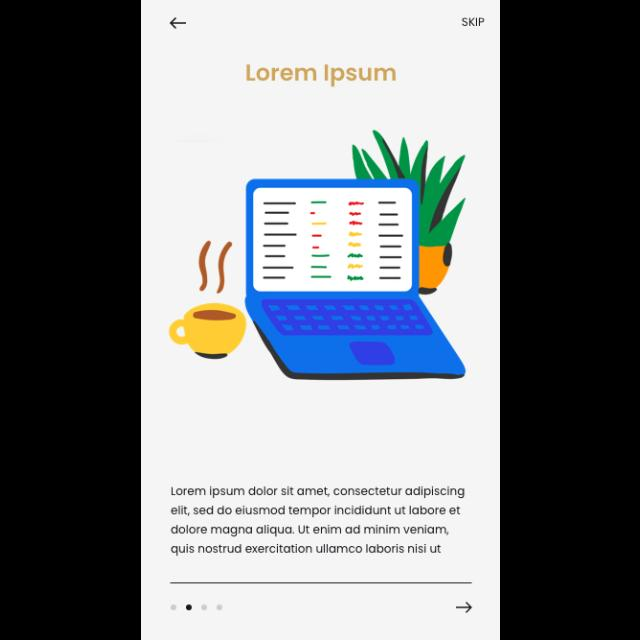icon: (168, 18, 186, 30), (456, 601, 472, 613)
image: (168, 130, 466, 380)
pageindicator: (170, 604, 223, 610)
text: (170, 486, 466, 556), (246, 64, 396, 88), (462, 18, 484, 28)
